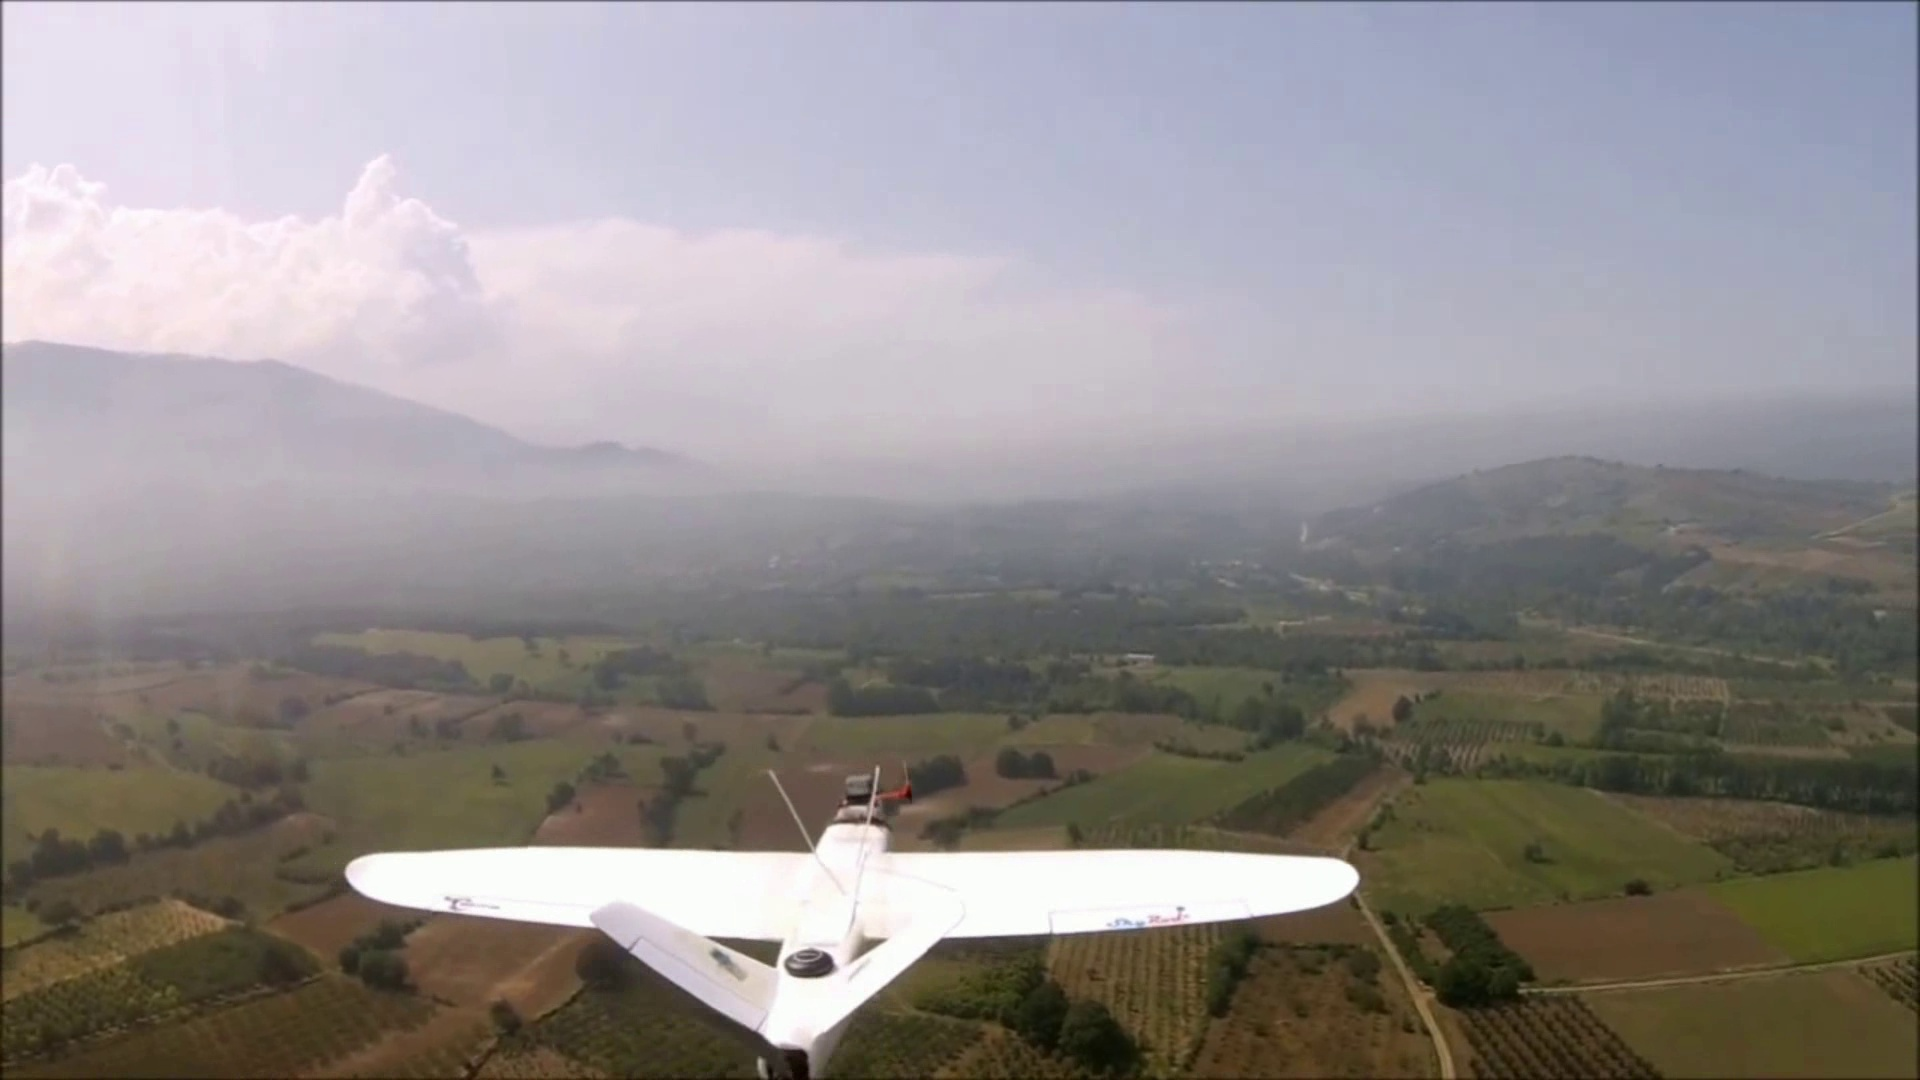airplane: (340, 759, 1364, 1071)
